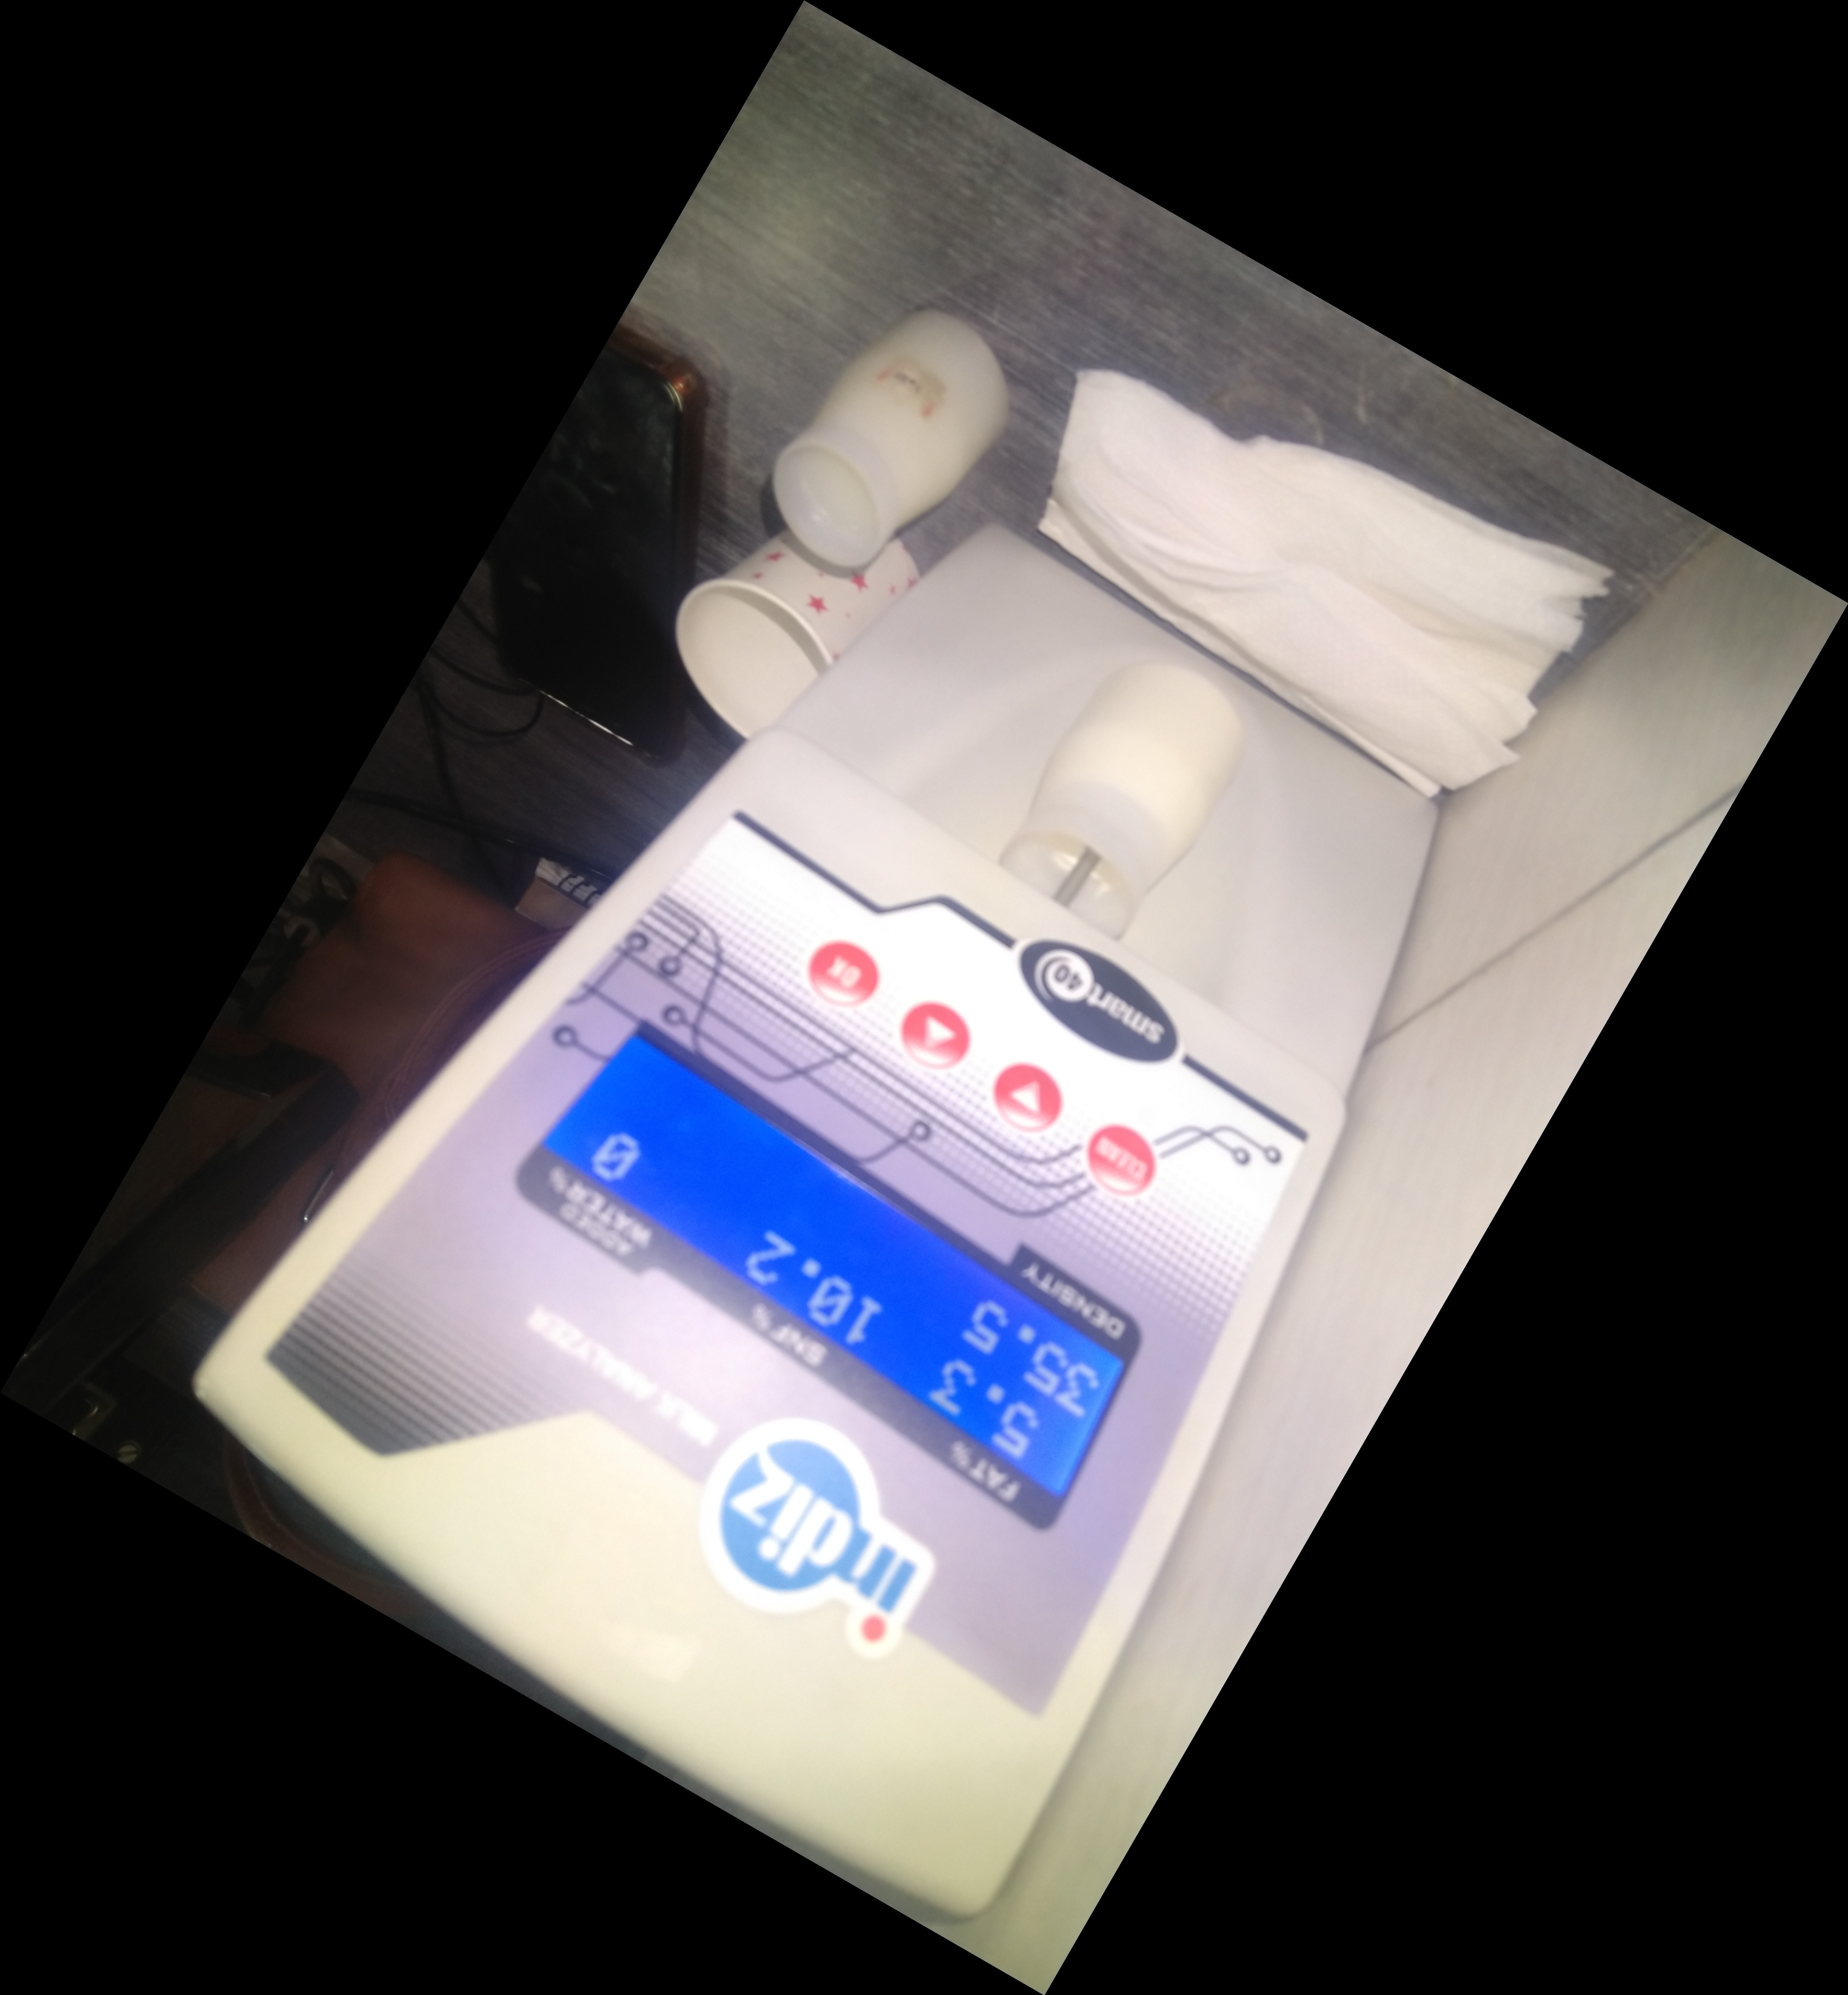lcd: (501, 1013, 1151, 1564)
